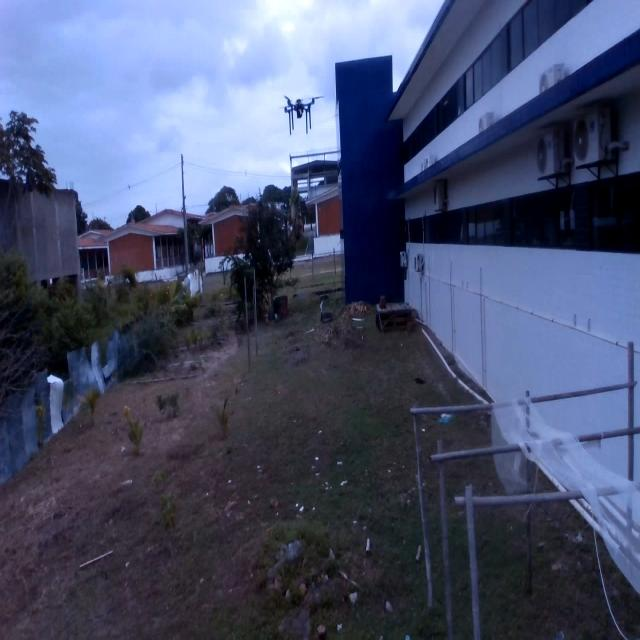-uav-: (275, 80, 324, 141)
